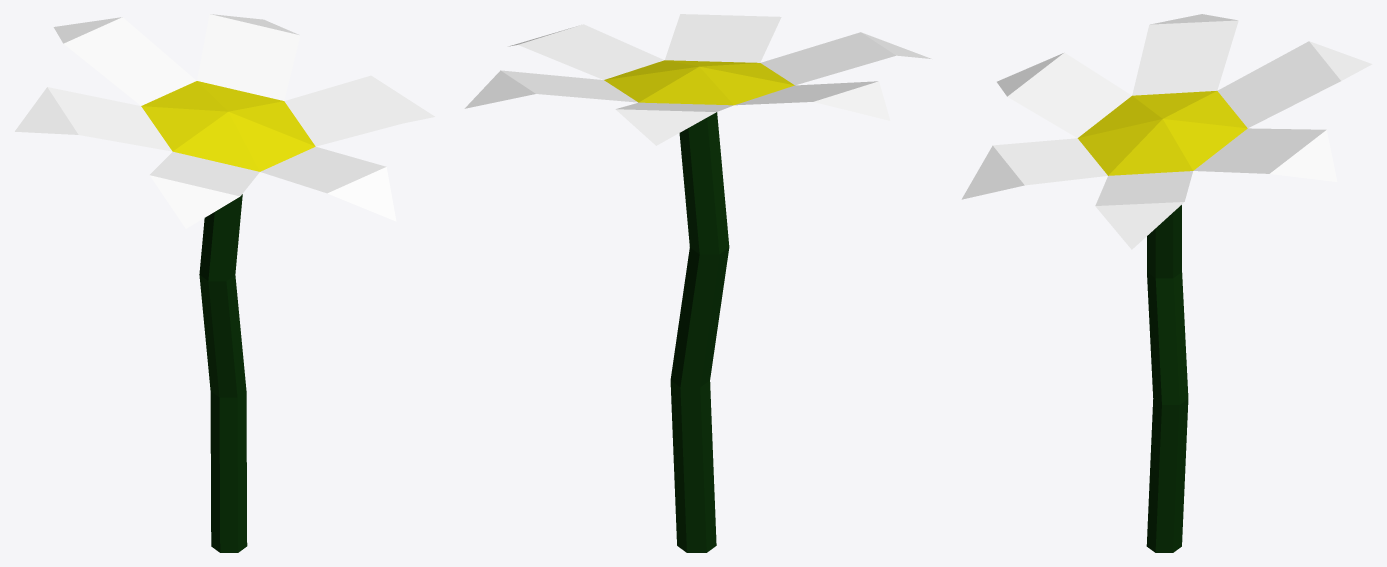
The model's file is plant_flower_white.glb.
3 renders of one model, left to right at view 1: azimuth 30°, elevation 25°; view 2: azimuth 150°, elevation 25°; view 3: azimuth 270°, elevation 25°, orthographic. The views are drawn at different scales.
Visible parts, largest first — view 1: flower-white; view 2: flower-white; view 3: flower-white.
Boxes of the visible parts, x1,y1,x2,y2 form: flower-white: (15,14,434,552); flower-white: (464,14,931,552); flower-white: (961,14,1372,552).
Size of the model in its own units: 0.3137 by 0.3664 by 0.296.
